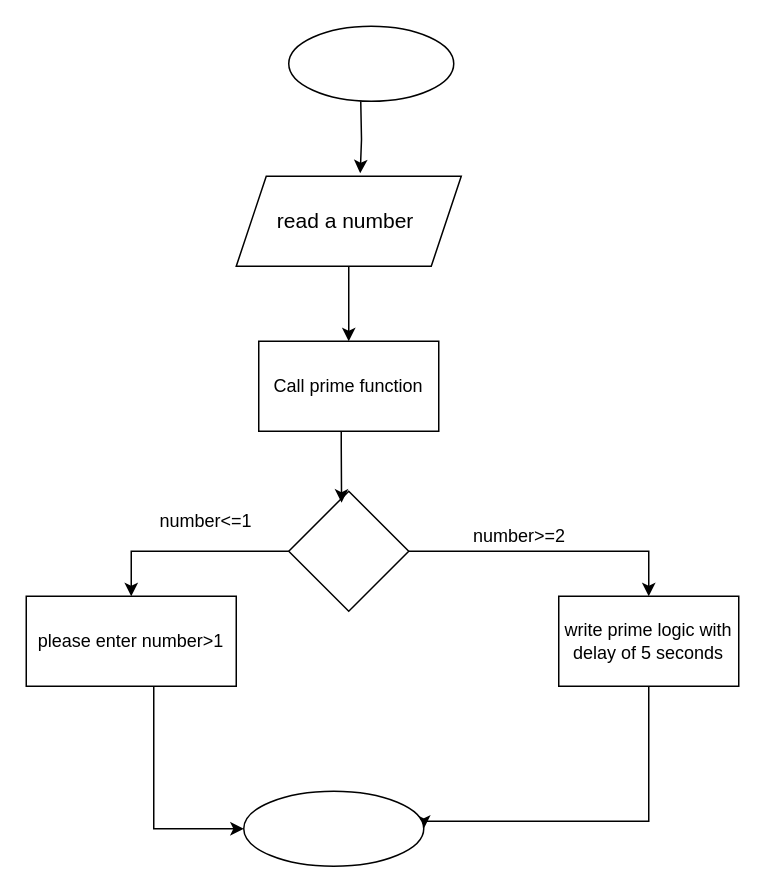
Image size: 765x893. Some labels were removed from this diagram. The shapes that lost their labels are listed below. From the top down, each one's centre as x and y in pixels, then its label:
point (370, 63): start
point (333, 828): End
